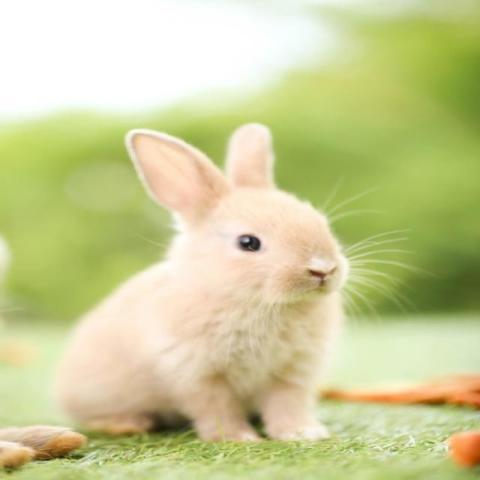small_animal: (52, 120, 416, 446)
